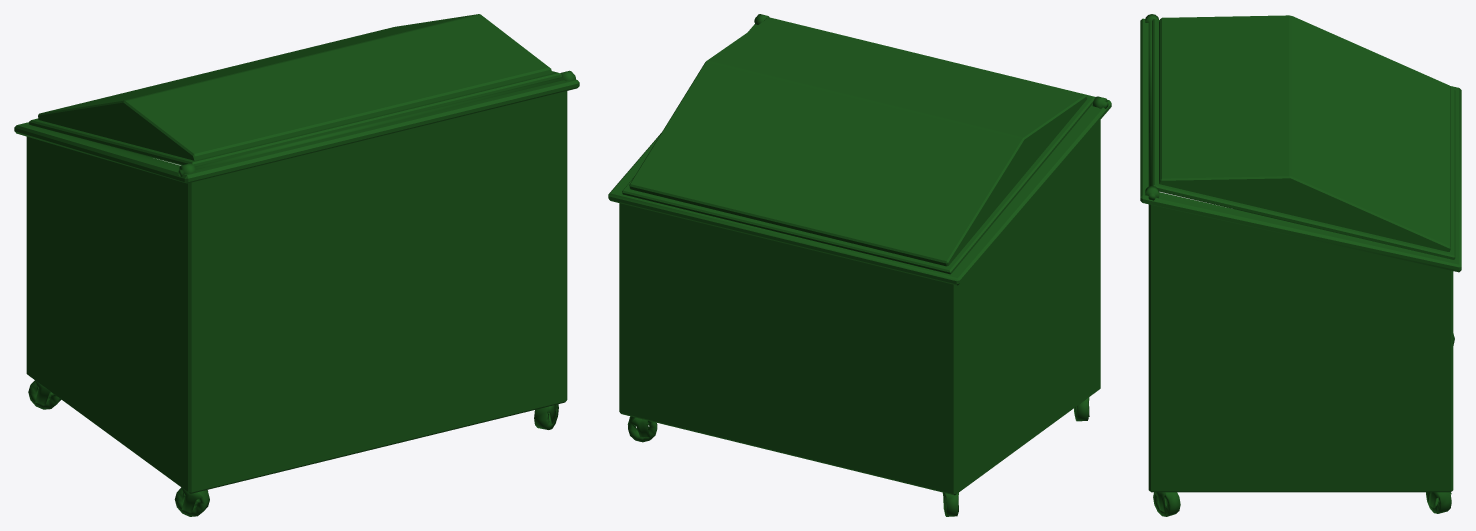
File: Big Trash Bin.fbx
The picture shows the model from 3 angles, left to right: view 1: azimuth 30°, elevation 25°; view 2: azimuth 150°, elevation 25°; view 3: azimuth 270°, elevation 25°; orthographic projection. The views are drawn at different scales.
Parts seen in each view (by area): view 1: Cube.108, Cube.110, Cube.109; view 2: Cube.108, Cube.110, Cube.109; view 3: Cube.108, Cube.110, Cube.109.
Boxes of the visible parts, left/top/right/bottom form: Cube.108: left=14, top=79, right=579, bottom=493; Cube.110: left=29, top=14, right=575, bottom=176; Cube.109: left=28, top=380, right=558, bottom=516; Cube.108: left=608, top=17, right=1111, bottom=495; Cube.110: left=622, top=14, right=1108, bottom=274; Cube.109: left=627, top=397, right=1089, bottom=516; Cube.108: left=1140, top=18, right=1461, bottom=492; Cube.110: left=1145, top=14, right=1455, bottom=259; Cube.109: left=1153, top=333, right=1454, bottom=516.
Bounding box in the file's own units: 156 × 138 × 119.
